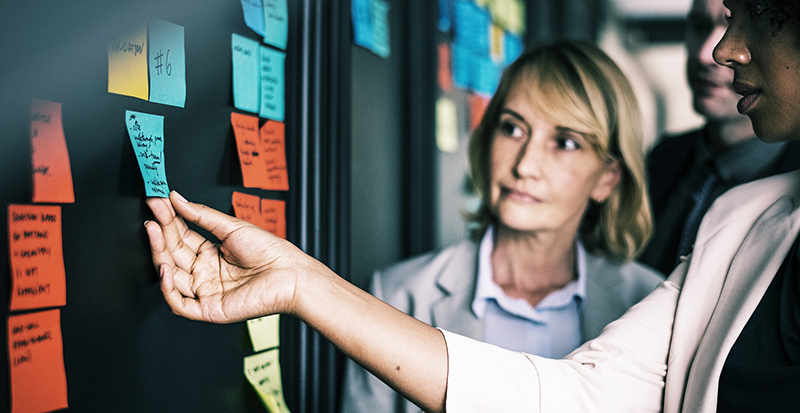person: (402, 38, 651, 319)
